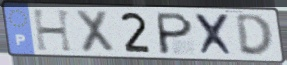2: (119, 11, 152, 54)
D: (233, 13, 276, 59)
H: (30, 9, 76, 54)
P: (157, 11, 195, 56)
X: (192, 12, 238, 57), (73, 8, 117, 55)
